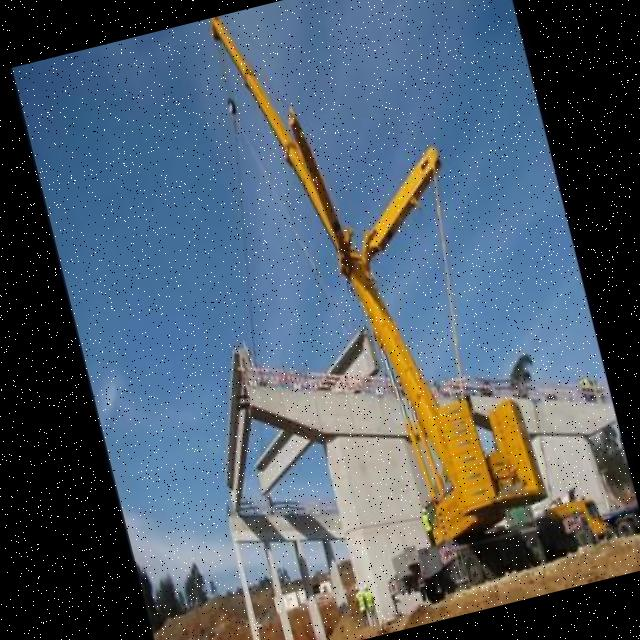Mobile Crane: (210, 0, 613, 606)
